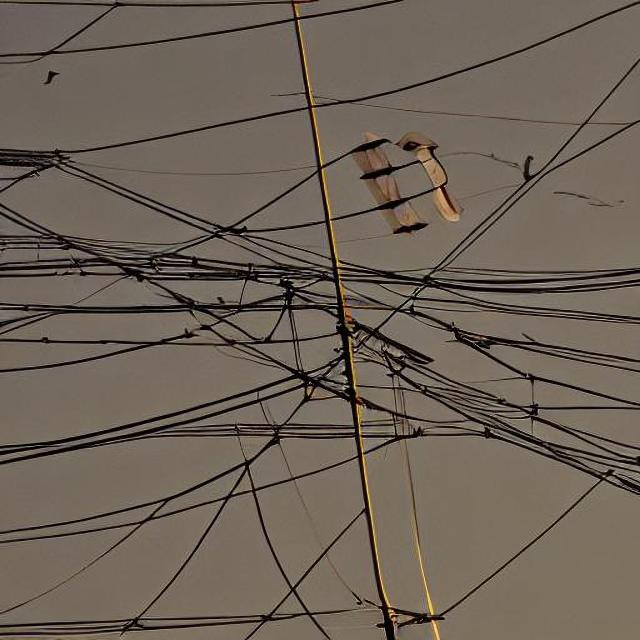floating object: (337, 128, 460, 232), (39, 67, 61, 90)
